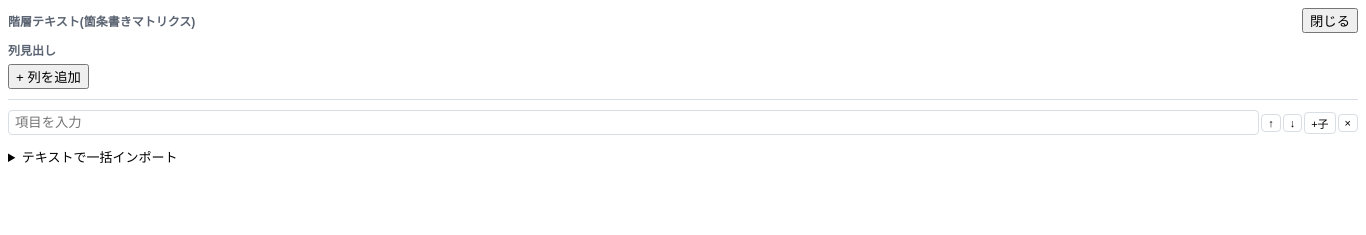
StructuredTextPanel › shows a bulletMatrix cell as a static label and resizes cells from the column list
Click the button "+ 列を追加": click(48, 76) [8,64,89,89]
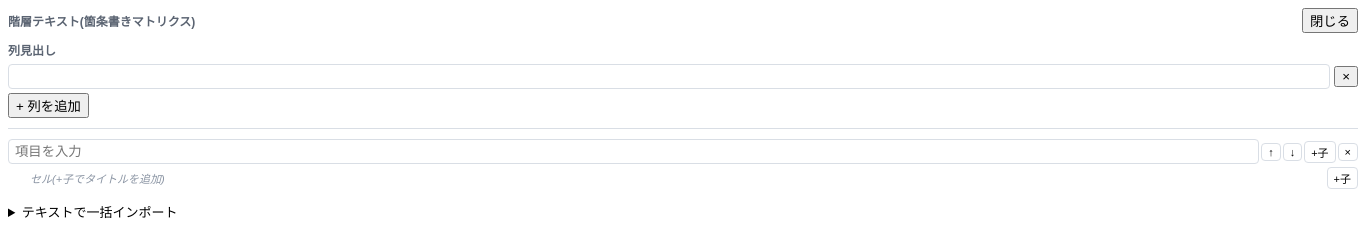
Check: the text "セル(+子でタイトルを追加)" is shown, box [30,173,165,185]
